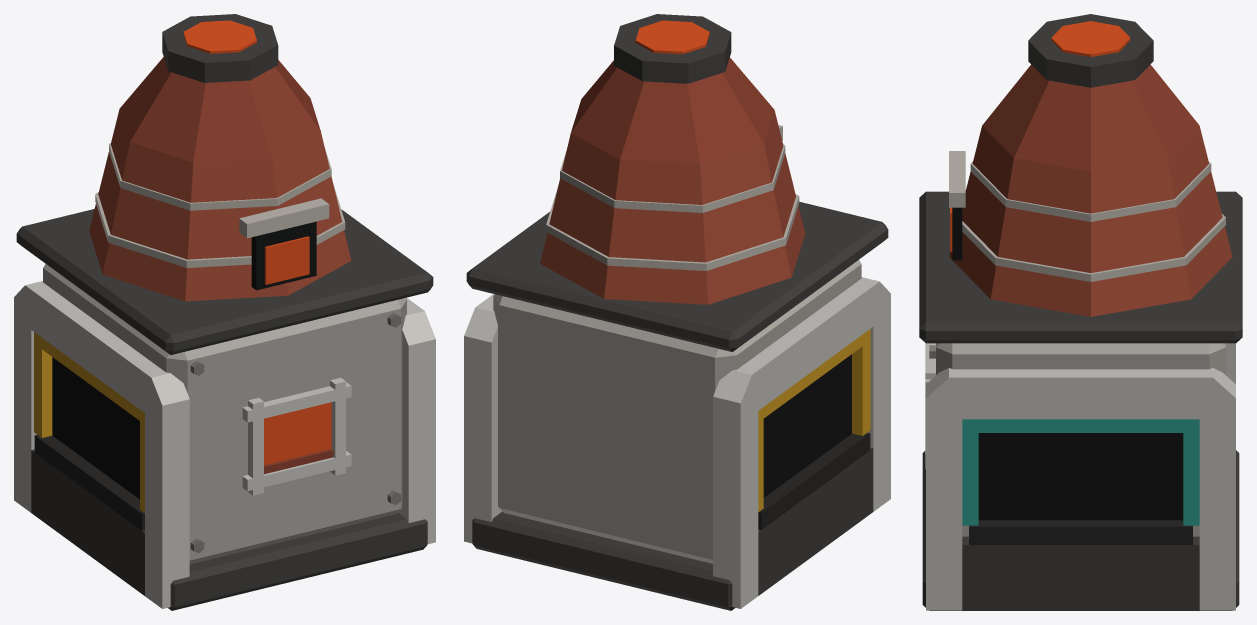
File: kiln.fbx
The picture shows the model from 3 angles, left to right: view 1: azimuth 30°, elevation 25°; view 2: azimuth 150°, elevation 25°; view 3: azimuth 270°, elevation 25°; orthographic projection. The views are drawn at different scales.
Visible parts, largest first — view 1: kiln; view 2: kiln; view 3: kiln.
Part boxes in pixels (x1,y1,x2,y2): kiln: (14,14,435,610); kiln: (464,14,890,610); kiln: (919,14,1242,610).
Bounding box in the file's own units: 3 × 5.11 × 2.94.
